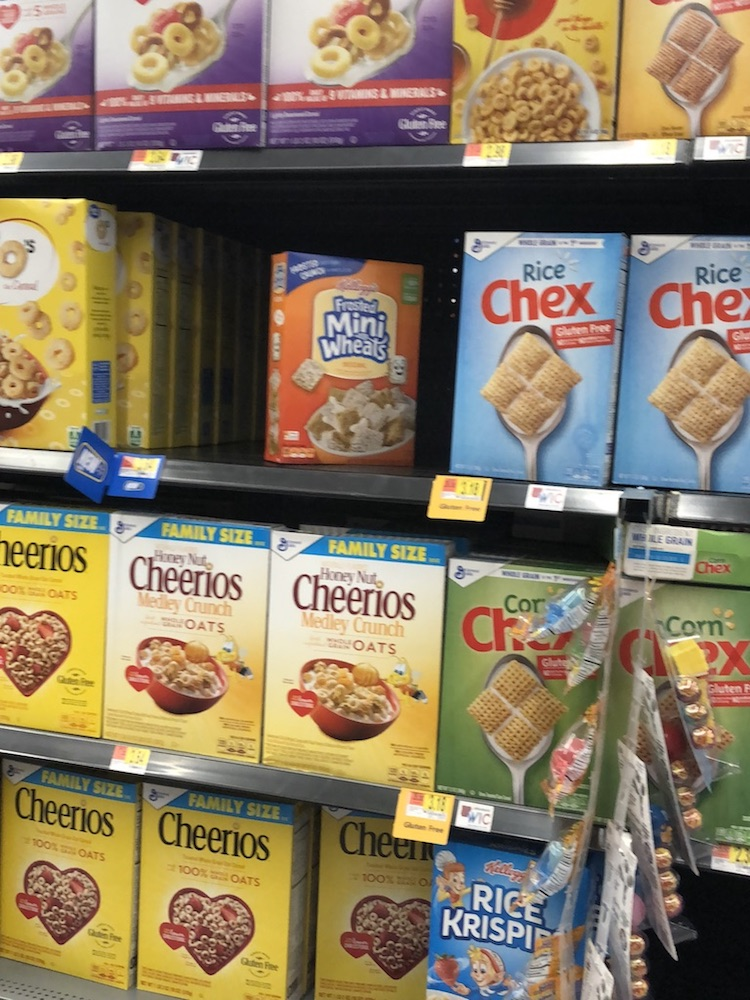Frosted Mini Original -9295869: (273, 257, 421, 465)
